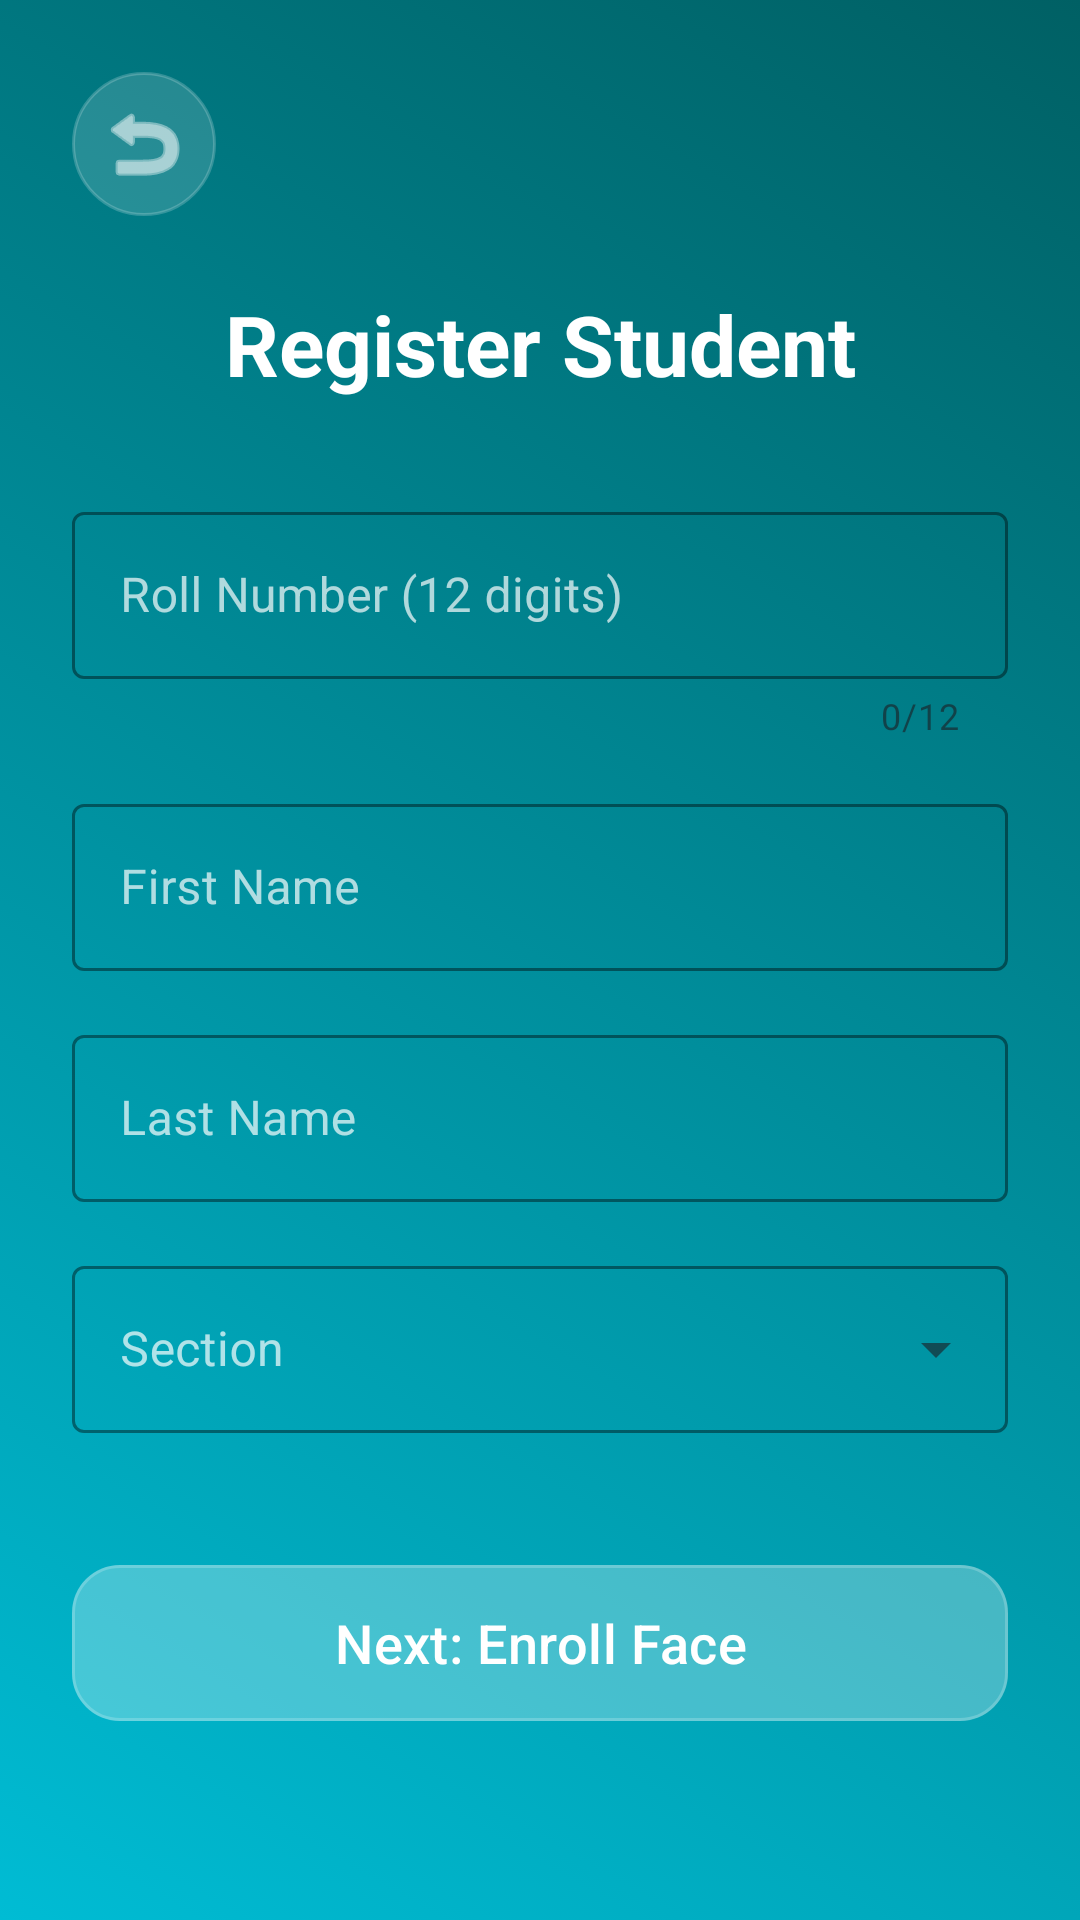

Named icons in this screenshot (1080w x 1920h) and their centers, [x,y]:
revert: [144,144]
